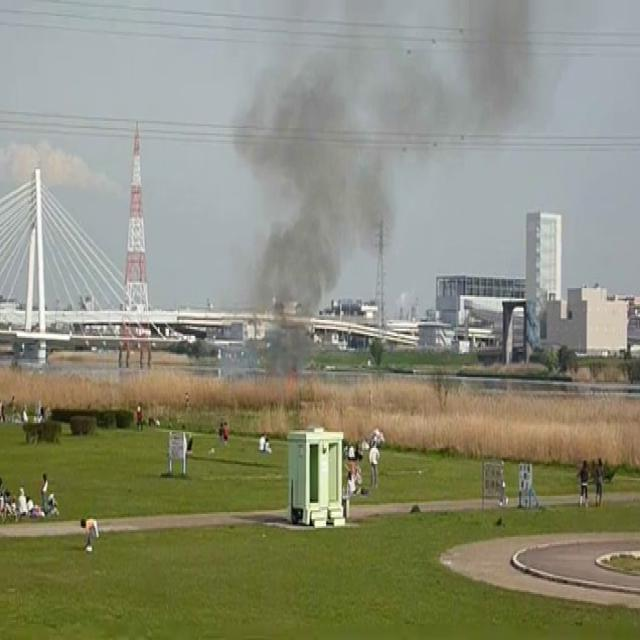Smoke: (218, 0, 640, 304)
